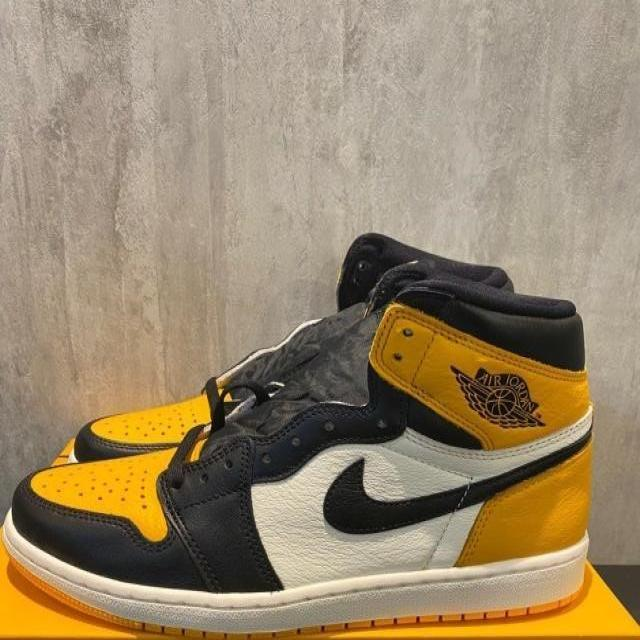J1_InsoleChar: (1, 233, 597, 636)
J1_MateComp: (67, 232, 514, 464), (335, 230, 514, 313)
J1_ShoeLogo: (449, 363, 546, 430)
J1_StitchPattern: (24, 395, 594, 554), (2, 510, 593, 637), (320, 408, 594, 537), (373, 303, 551, 439), (27, 424, 209, 543), (131, 591, 584, 637), (153, 375, 248, 594), (314, 581, 587, 634), (89, 377, 244, 447), (154, 475, 225, 594), (33, 455, 157, 511), (423, 475, 492, 571), (317, 604, 538, 633)
